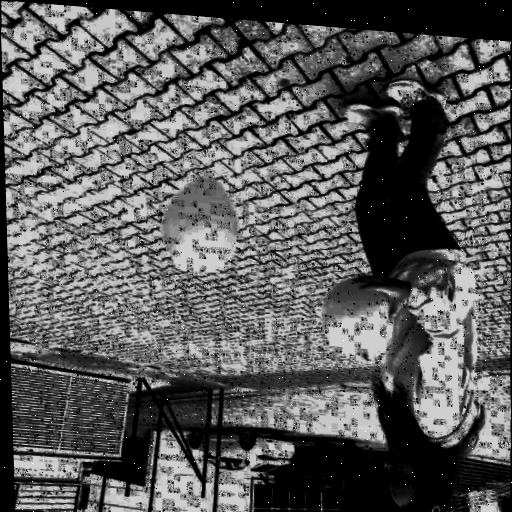balloon: (158, 171, 242, 279), (317, 277, 398, 369)
